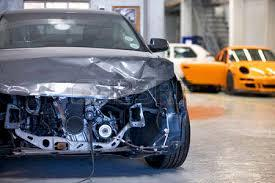bonnet-dent: (2, 48, 159, 94)
